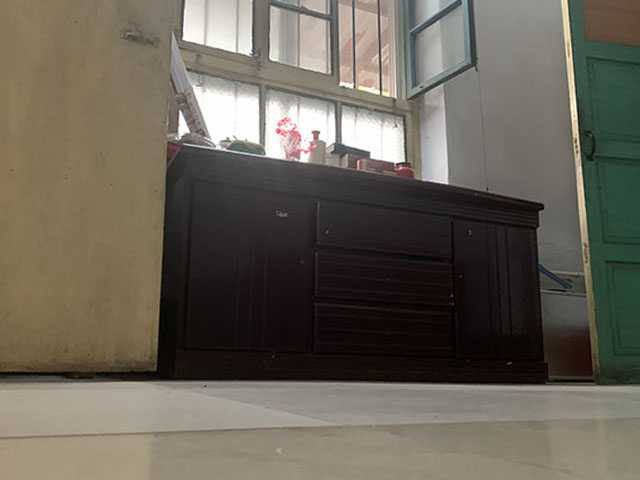cabinet: (159, 142, 554, 383)
